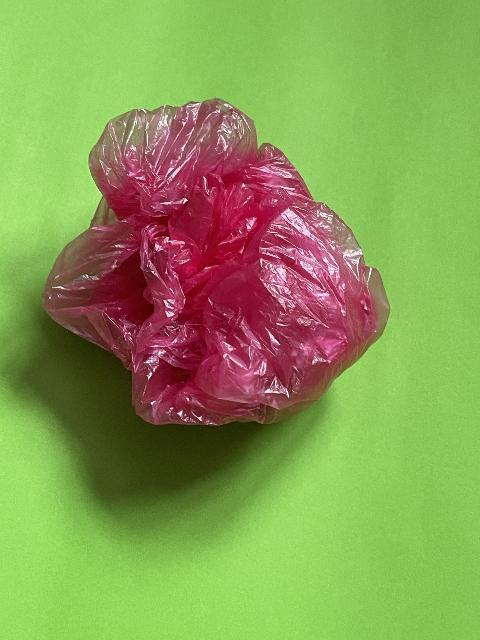plasticbag: (39, 94, 389, 432)
